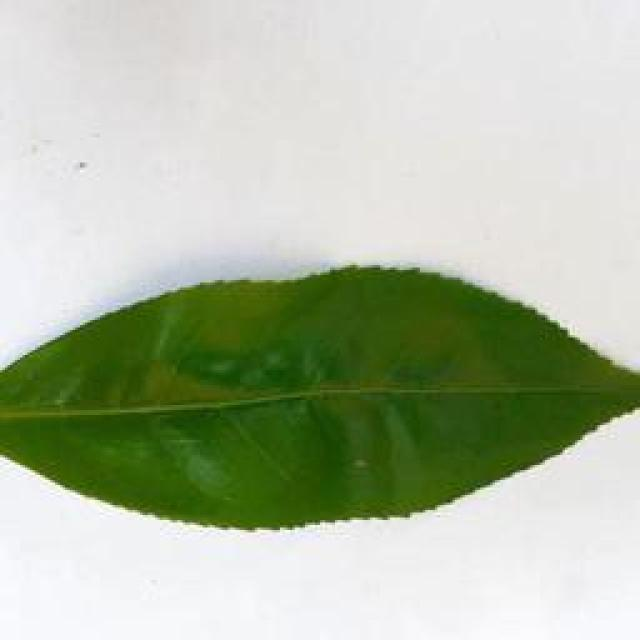Healthy: (0, 255, 640, 546)
